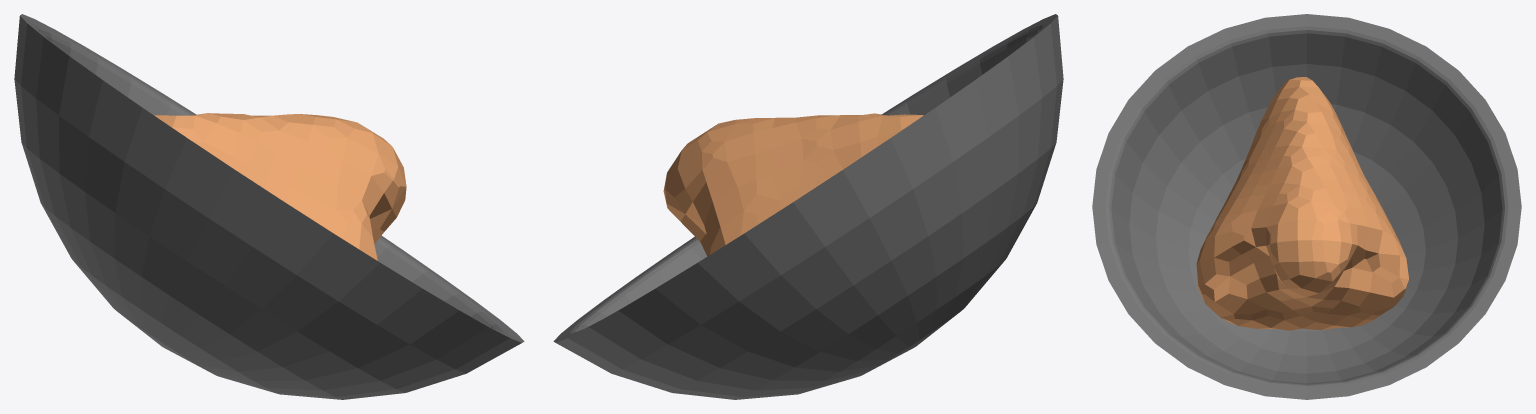
Rendered from NoseRadarLowPoly 1.fbx.
3 views of the same model, side by side, from view 1: azimuth 30°, elevation 25°; view 2: azimuth 150°, elevation 25°; view 3: azimuth 270°, elevation 25° (orthographic). The views are drawn at different scales.
Visible parts, largest first — view 1: Cylinder.001; view 2: Cylinder.001; view 3: Cylinder.001.
Part boxes in pixels (<box>): Cylinder.001: <box>14,14,524,399</box>; Cylinder.001: <box>553,14,1063,399</box>; Cylinder.001: <box>1092,14,1521,399</box>.
Bounding box in the file's own units: 77.54 × 67.36 × 97.26.
